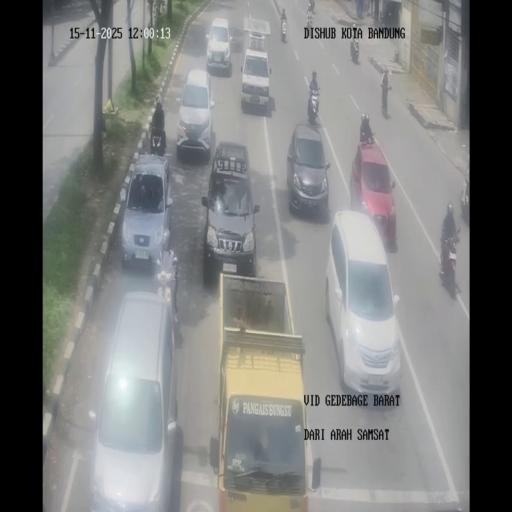3: (213, 270, 312, 508), (244, 14, 269, 55)
car: (90, 289, 182, 507), (325, 211, 399, 398), (201, 141, 260, 280), (120, 150, 173, 272), (350, 139, 396, 246), (286, 122, 330, 220), (177, 68, 215, 162), (240, 46, 272, 112), (205, 16, 232, 74)
truck: (439, 228, 460, 298), (306, 84, 320, 124), (150, 124, 164, 156), (380, 81, 392, 117), (461, 182, 469, 224), (350, 36, 360, 64), (361, 130, 375, 144), (280, 18, 287, 42), (306, 8, 313, 29), (364, 0, 370, 16), (352, 22, 358, 38), (379, 10, 384, 23)
